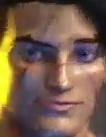kevin: (14, 6, 105, 135)
